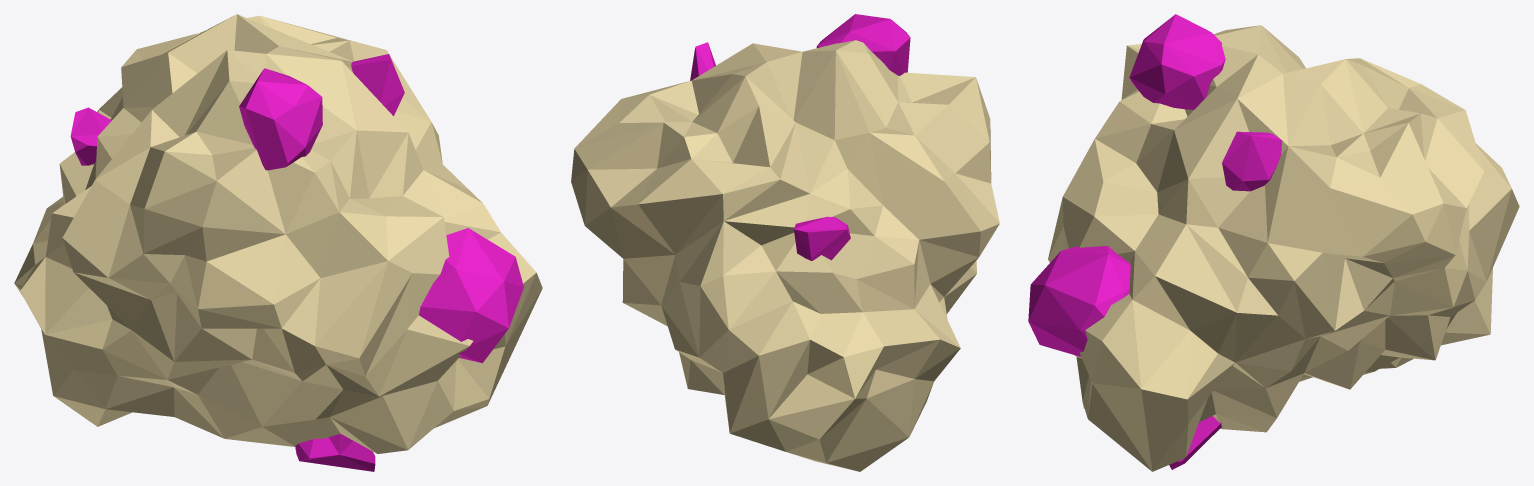
File: CrystalOre (38).fbx
3 views of the same model, side by side, from view 1: azimuth 30°, elevation 25°; view 2: azimuth 150°, elevation 25°; view 3: azimuth 270°, elevation 25° (orthographic). The views are drawn at different scales.
Parts seen in each view (by area): view 1: Asteroid258; view 2: Asteroid258; view 3: Asteroid258.
Boxes of the visible parts, x1,y1,x2,y2 form: Asteroid258: (14,14,542,471); Asteroid258: (571,14,999,471); Asteroid258: (1028,14,1519,471).
Bounding box in the file's own units: 567 × 547 × 605.
